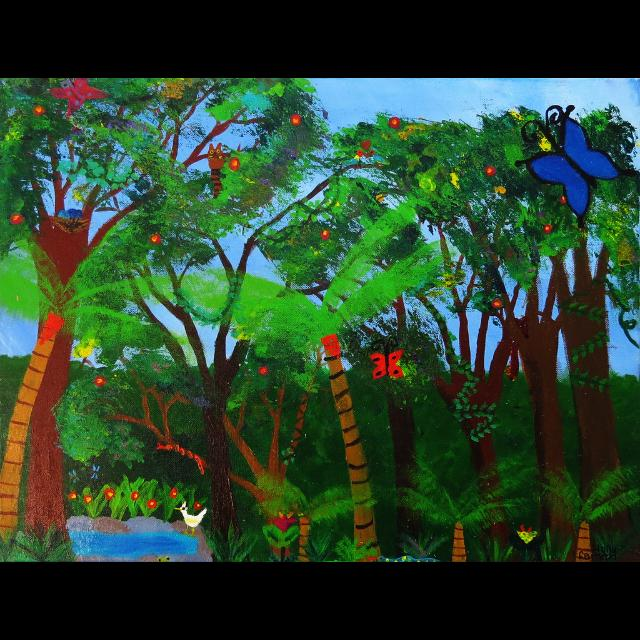Flower: (272, 511, 298, 533), (92, 374, 106, 388), (228, 158, 240, 172), (11, 212, 23, 224), (32, 106, 44, 116), (146, 500, 158, 510), (290, 114, 300, 126), (150, 234, 162, 243), (105, 490, 115, 500), (390, 118, 400, 128), (486, 166, 496, 176), (492, 299, 502, 309), (170, 488, 178, 499), (130, 492, 140, 500), (259, 366, 267, 376), (544, 224, 552, 233), (322, 230, 328, 240), (194, 502, 200, 511), (68, 492, 74, 500), (84, 498, 92, 504), (358, 150, 362, 156), (560, 198, 566, 202)
